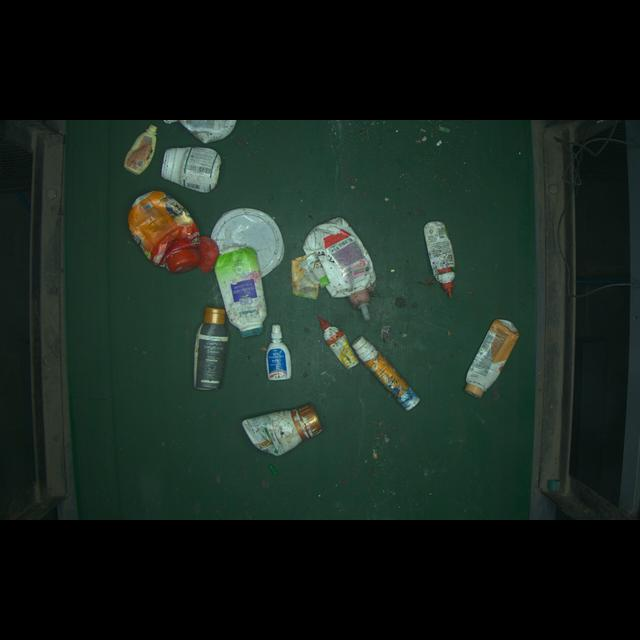mix PET: (229, 389, 338, 472), (292, 215, 384, 311), (120, 185, 208, 281), (457, 307, 525, 413), (347, 331, 426, 409), (417, 215, 475, 298), (217, 245, 271, 333), (193, 302, 243, 395), (152, 140, 240, 188), (256, 312, 294, 391), (313, 317, 359, 374), (123, 125, 159, 180)
